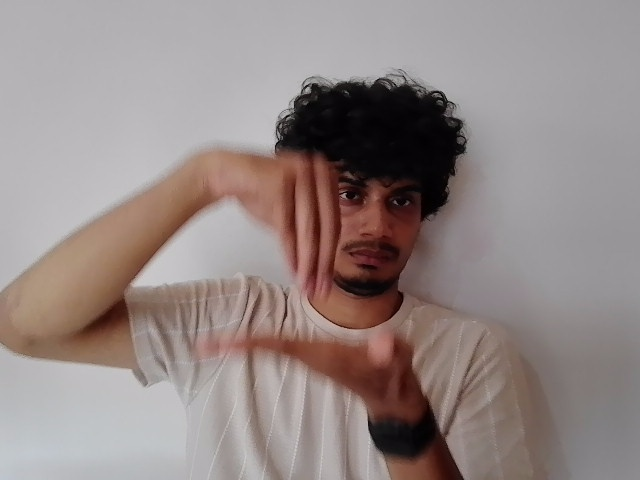learn: (207, 148, 425, 386)
